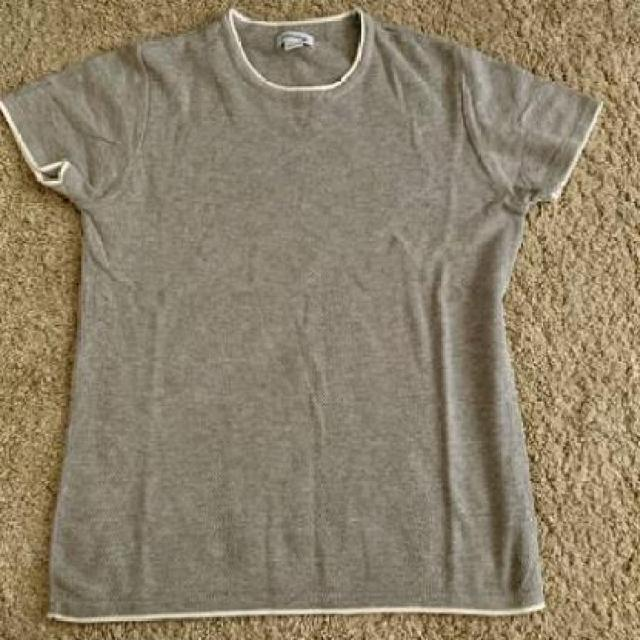shirt: (14, 19, 617, 638)
